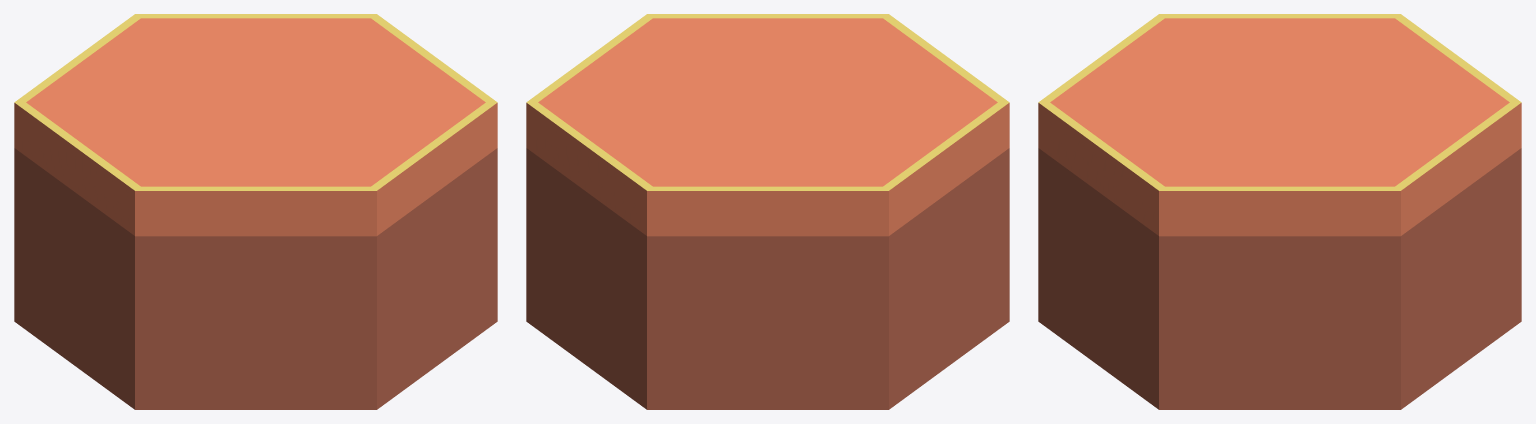
The model's file is city_base_tile.fbx.
3 views of the same model, side by side, from view 1: azimuth 30°, elevation 25°; view 2: azimuth 150°, elevation 25°; view 3: azimuth 270°, elevation 25° (orthographic).
Visible parts, largest first — view 1: Hex; view 2: Hex; view 3: Hex.
Part boxes in pixels (x1=…): Hex: x1=14, y1=14, x2=497, y2=409; Hex: x1=526, y1=14, x2=1009, y2=409; Hex: x1=1038, y1=14, x2=1521, y2=409.
Size of the model in its own units: 1.73 by 1 by 2.
Materials: 1 (1 with a texture image).
